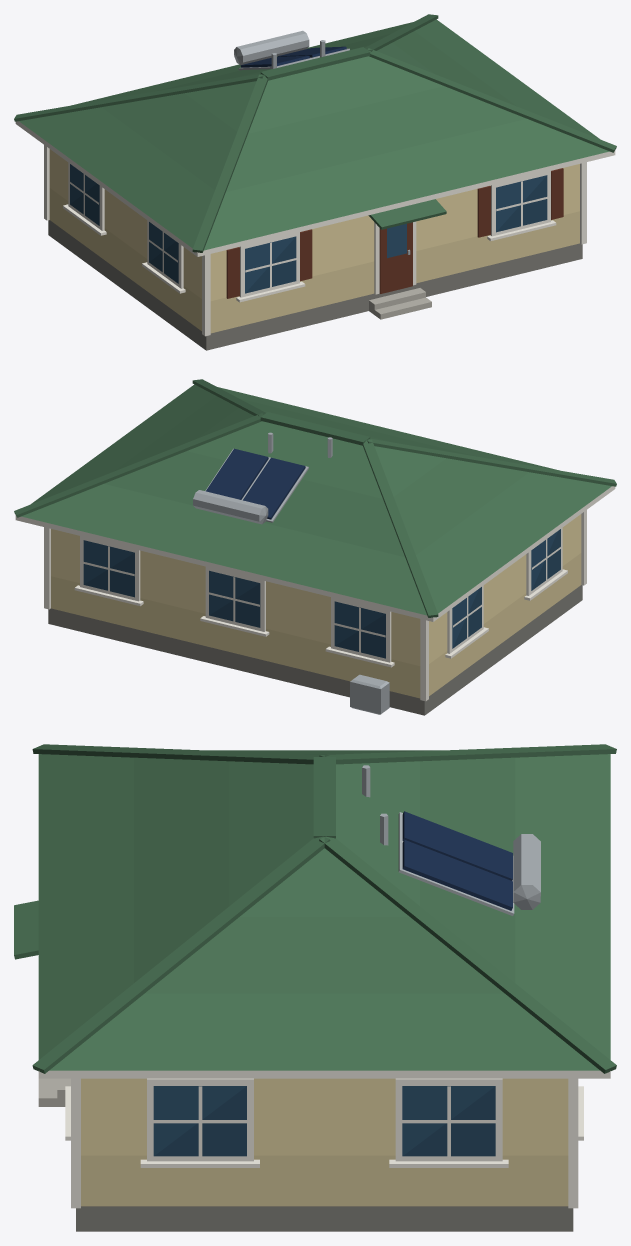
Rendered from house_11x8.glb.
The picture shows the model from 3 angles, top to bottom: view 1: azimuth 30°, elevation 25°; view 2: azimuth 150°, elevation 25°; view 3: azimuth 270°, elevation 25°; orthographic projection. The views are drawn at different scales.
Parts seen in each view (by area): view 1: house; view 2: house; view 3: house.
Boxes of the visible parts, x1,y1,x2,y2 form: house: [14, 14, 616, 350]; house: [14, 379, 616, 715]; house: [14, 744, 616, 1231].
Bounding box in the file's own units: 12.4 × 5.3 × 9.7.
